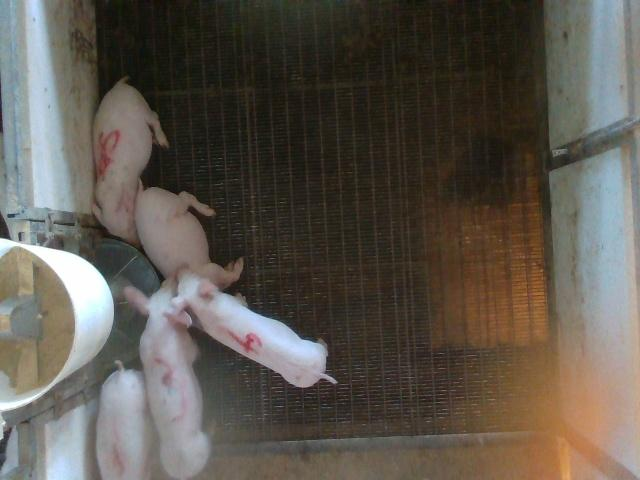pig-1: (96, 361, 148, 479)
pig-3: (124, 278, 210, 478)
pig-4: (172, 271, 336, 387)
pig-5: (92, 78, 169, 246)
